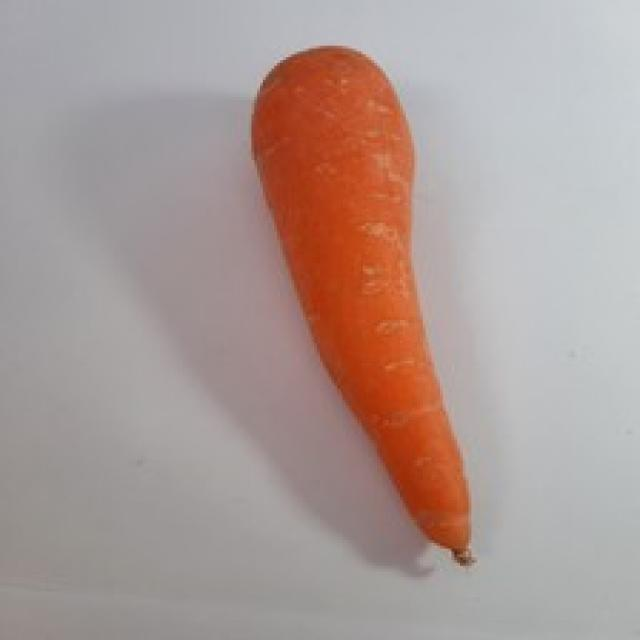carrot: (252, 44, 476, 568)
